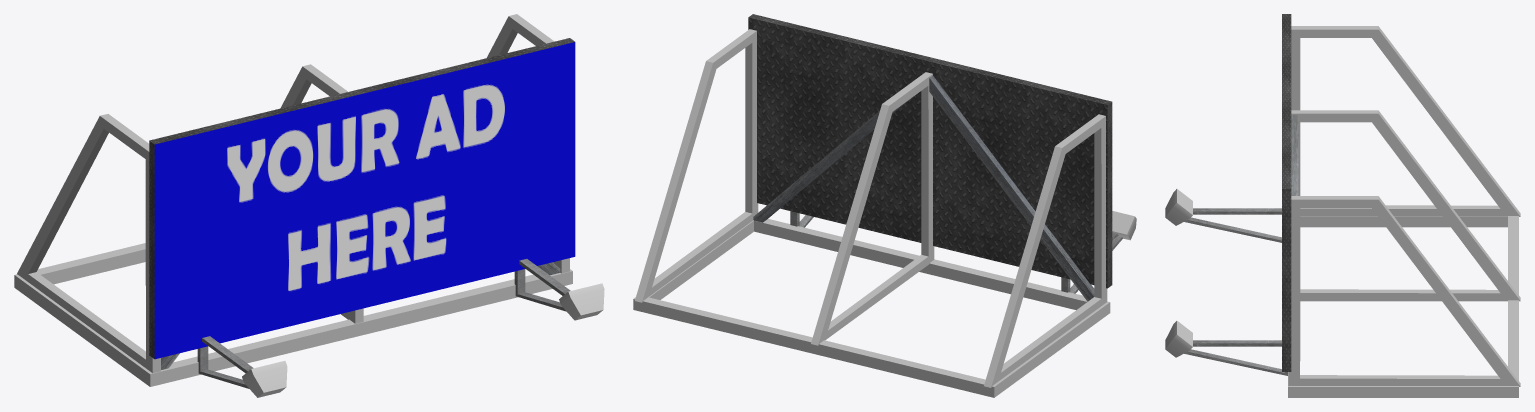
File: billboard_05.fbx
3 renders of one model, left to right at view 1: azimuth 30°, elevation 25°; view 2: azimuth 150°, elevation 25°; view 3: azimuth 270°, elevation 25°, orthographic. The views are drawn at different scales.
Parts seen in each view (by area): view 1: polySurface49, pCube509, group43_pCube400; view 2: polySurface49, pCube509, group43_pCube400; view 3: pCube509, group43_pCube400, polySurface49.
Part boxes in pixels (x1=…): polySurface49: x1=149, y1=38, x2=575, y2=359; pCube509: x1=14, y1=14, x2=572, y2=386; group43_pCube400: x1=197, y1=259, x2=604, y2=397; polySurface49: x1=748, y1=14, x2=1112, y2=288; pCube509: x1=633, y1=29, x2=1110, y2=397; group43_pCube400: x1=790, y1=211, x2=1136, y2=293; pCube509: x1=1288, y1=26, x2=1520, y2=397; group43_pCube400: x1=1165, y1=189, x2=1287, y2=375; polySurface49: x1=1282, y1=14, x2=1291, y2=371.
Size of the model in its own units: 53.43 by 29.57 by 45.65.
